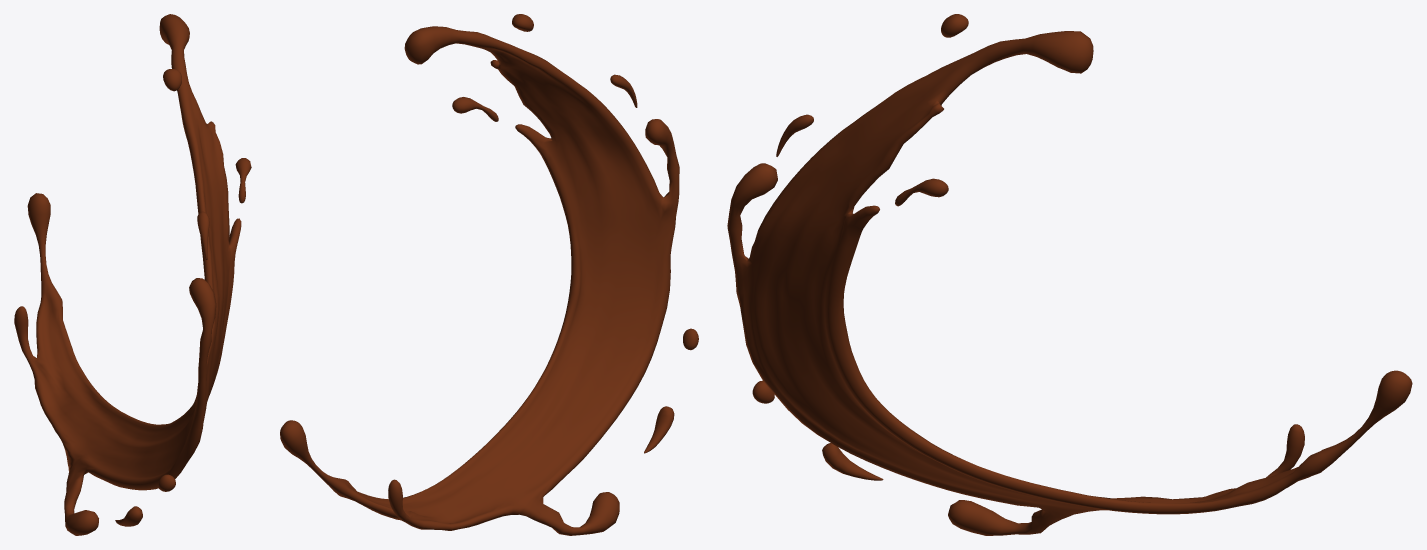
3 renders of one model, left to right at view 1: azimuth 30°, elevation 25°; view 2: azimuth 150°, elevation 25°; view 3: azimuth 270°, elevation 25°, orthographic. The views are drawn at different scales.
Visible parts, largest first — view 1: chocolate_splash_free_006_grp; view 2: chocolate_splash_free_006_grp; view 3: chocolate_splash_free_006_grp.
Boxes of the visible parts, x1,y1,x2,y2 form: chocolate_splash_free_006_grp: (14, 14, 251, 535); chocolate_splash_free_006_grp: (280, 14, 698, 535); chocolate_splash_free_006_grp: (727, 14, 1412, 535).
Bounding box in the file's own units: 11.7 × 31.07 × 33.08.
1 material, 1 textured.
